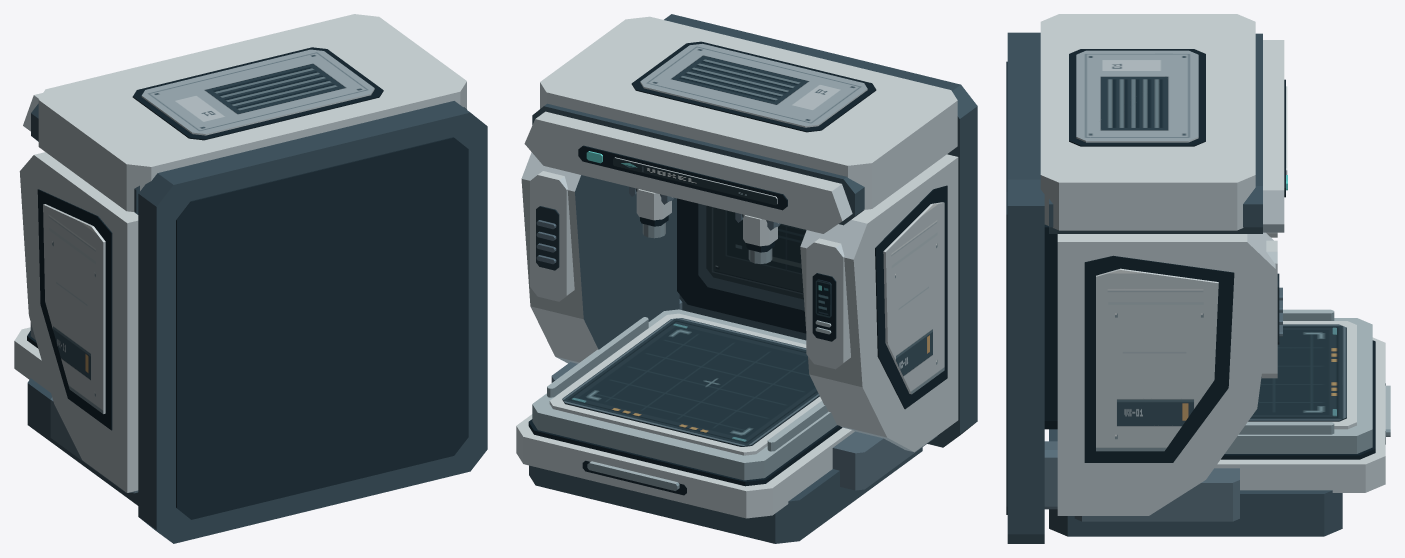
The model's file is voxel_printer_complete.obj.
3 views of the same model, side by side, from view 1: azimuth 30°, elevation 25°; view 2: azimuth 150°, elevation 25°; view 3: azimuth 270°, elevation 25° (orthographic). The views are drawn at different scales.
Visible parts, largest first — view 1: rear_isolation_panel_1, rear_structural_spine_0, crown_chamfered_shell_18, l_sculpted_side_shoulder_9, roof_removable_cover_24, l_floating_side_access_cover_11, l_recessed_side_gasket_10, roof_service_gasket_23, lower_chamfered_power_chassis_27, tray_floating_support_28, l_lower_cradle_bracket_25; view 2: crown_chamfered_shell_18, build_surface_32, l_sculpted_side_shoulder_9, r_sculpted_side_shoulder_13, header_tapered_brow_19, rear_structural_spine_0, roof_removable_cover_24, tray_floating_support_28, l_floating_side_access_cover_11, build_plate_rim_30, lower_chamfered_power_chassis_27, service_panel_inset_6 (+20 smaller); view 3: crown_chamfered_shell_18, r_sculpted_side_shoulder_13, r_floating_side_access_cover_15, rear_structural_spine_0, roof_removable_cover_24, r_recessed_side_gasket_14, lower_chamfered_power_chassis_27, build_surface_32, tray_floating_support_28, build_plate_rim_30, header_tapered_brow_19, r_lower_cradle_bracket_26 (+10 smaller).
Part boxes in pixels (x1,y1,x2,y2): rear_isolation_panel_1: [176, 137, 468, 519]; rear_structural_spine_0: [138, 101, 487, 543]; crown_chamfered_shell_18: [38, 14, 466, 212]; l_sculpted_side_shoulder_9: [19, 152, 138, 492]; roof_removable_cover_24: [141, 49, 374, 135]; l_floating_side_access_cover_11: [43, 204, 105, 413]; l_recessed_side_gasket_10: [37, 189, 112, 430]; roof_service_gasket_23: [132, 47, 383, 140]; lower_chamfered_power_chassis_27: [27, 378, 138, 505]; tray_floating_support_28: [14, 327, 50, 392]; l_lower_cradle_bracket_25: [50, 397, 138, 493]; crown_chamfered_shell_18: [540, 16, 957, 209]; build_surface_32: [562, 318, 819, 446]; l_sculpted_side_shoulder_9: [800, 154, 958, 452]; r_sculpted_side_shoulder_13: [521, 152, 679, 363]; header_tapered_brow_19: [524, 111, 852, 233]; rear_structural_spine_0: [664, 14, 977, 447]; roof_removable_cover_24: [640, 43, 867, 127]; tray_floating_support_28: [516, 414, 854, 518]; l_floating_side_access_cover_11: [883, 202, 944, 394]; build_plate_rim_30: [532, 309, 836, 480]; lower_chamfered_power_chassis_27: [529, 447, 922, 543]; service_panel_inset_6: [706, 205, 806, 299]; crown_chamfered_shell_18: [1040, 14, 1255, 230]; r_sculpted_side_shoulder_13: [1057, 232, 1275, 515]; r_floating_side_access_cover_15: [1096, 268, 1218, 451]; rear_structural_spine_0: [1007, 32, 1044, 543]; roof_removable_cover_24: [1076, 50, 1198, 142]; r_recessed_side_gasket_14: [1084, 255, 1234, 462]; lower_chamfered_power_chassis_27: [1049, 429, 1342, 536]; build_surface_32: [1248, 324, 1346, 421]; tray_floating_support_28: [1214, 337, 1385, 492]; build_plate_rim_30: [1225, 318, 1372, 453]; header_tapered_brow_19: [1263, 40, 1284, 232]; r_lower_cradle_bracket_26: [1074, 468, 1239, 521].
Size of the model in its own units: 0.9 by 0.9062 by 0.8425.
